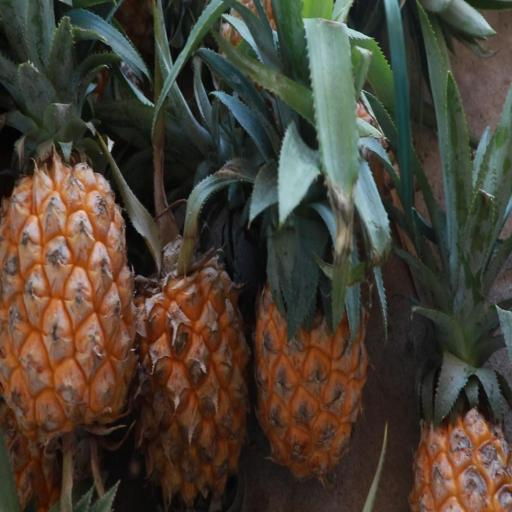Pineapple - v8 v1: (0, 134, 142, 454), (250, 165, 373, 489), (129, 207, 258, 512), (405, 291, 512, 512)
